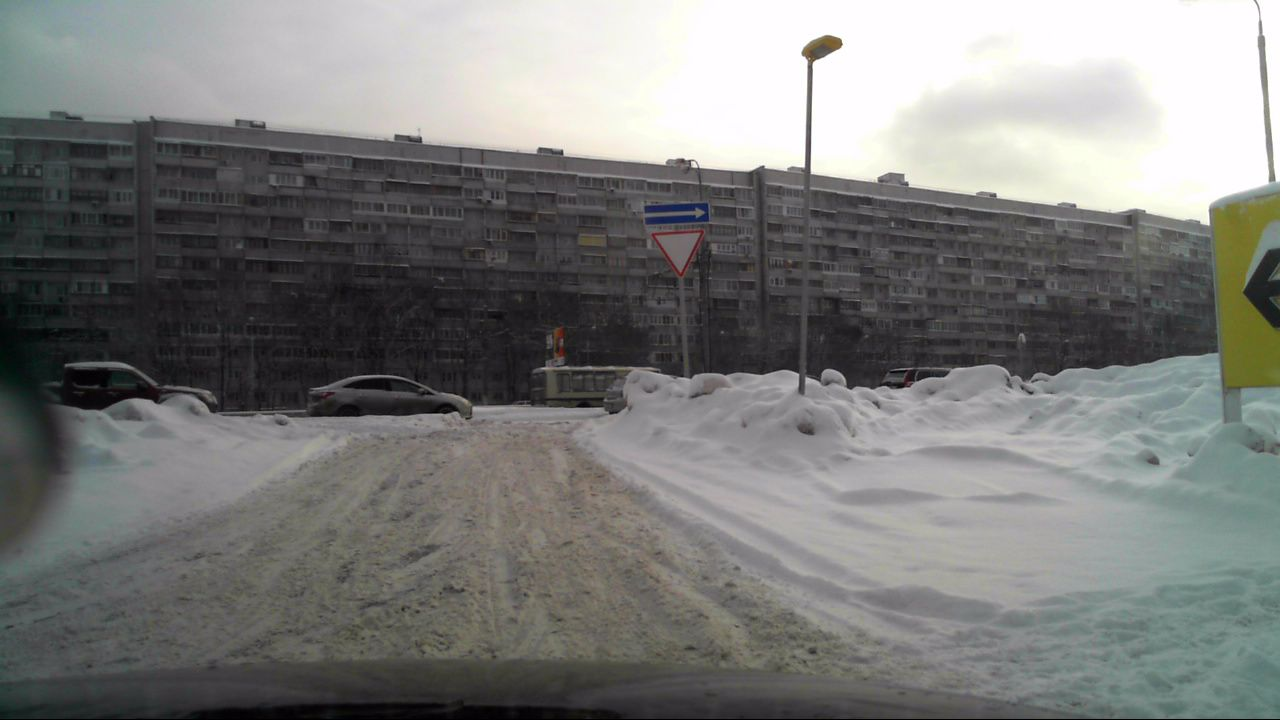One-Way Traffic: (643, 202, 710, 223)
